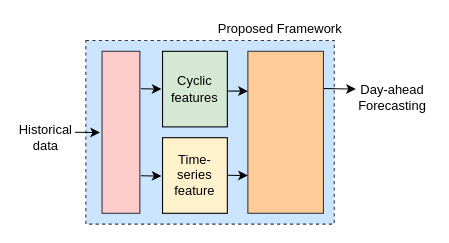
This 449x243 diagram has some shape labels left out. Here are the shapes that lost their labels. From the top down, the box of each, then its label:
(101, 50, 140, 213): Data preprocessing
(247, 50, 323, 213): Proposed Model
